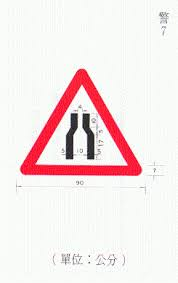Narrow_road: (18, 70, 146, 180)
